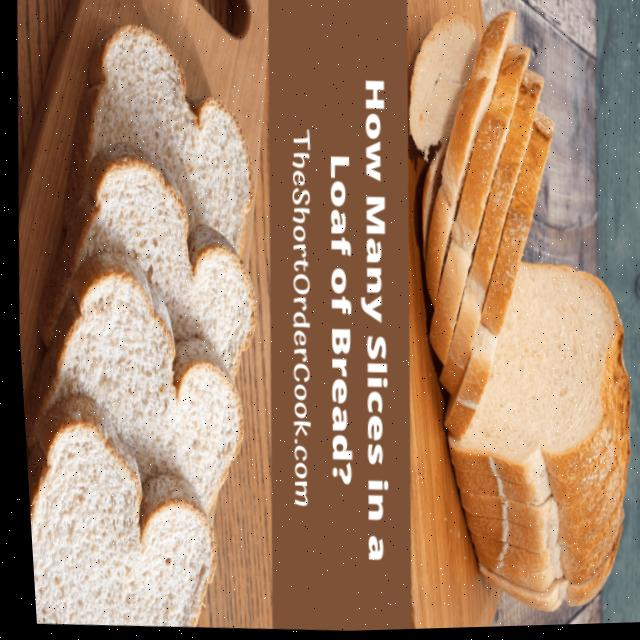Bagel: (442, 265, 625, 612), (19, 254, 237, 511), (35, 144, 251, 378), (60, 26, 251, 256), (22, 396, 208, 628)
